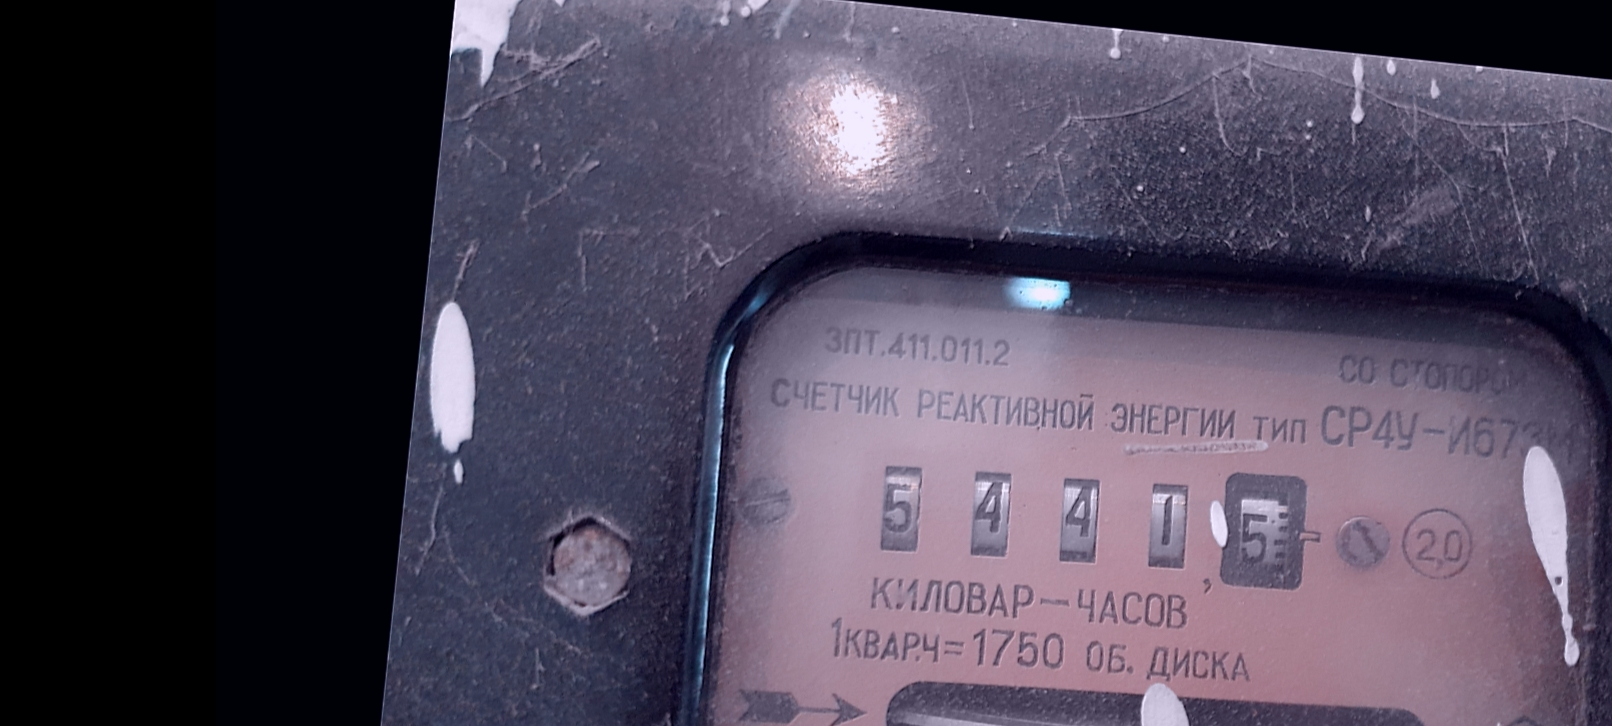1: (1155, 491, 1183, 551)
4: (1059, 477, 1103, 547), (970, 474, 1013, 539)
5: (1236, 506, 1277, 572), (878, 478, 922, 539)
screen: (852, 410, 1340, 624)
